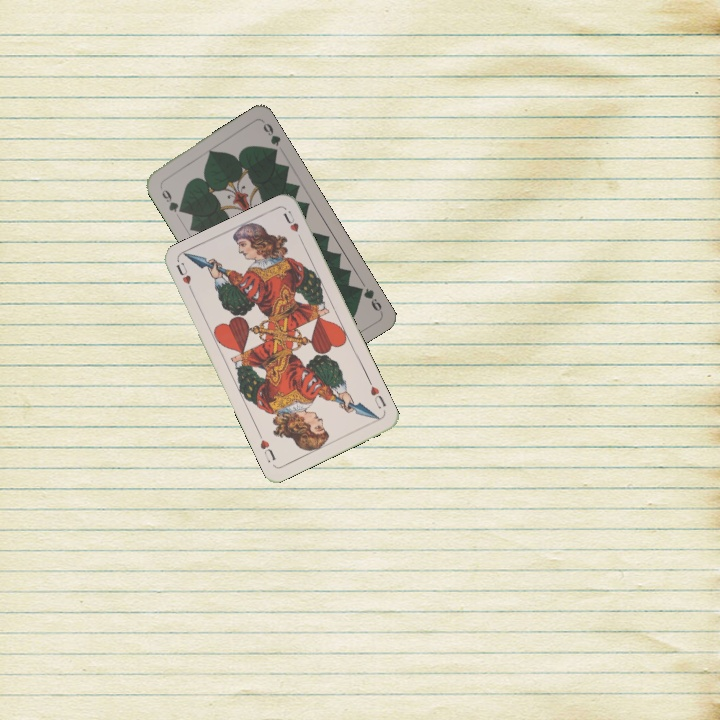G9: (352, 282, 384, 315), (156, 181, 186, 215)
HU: (172, 259, 197, 297), (364, 376, 388, 410)
